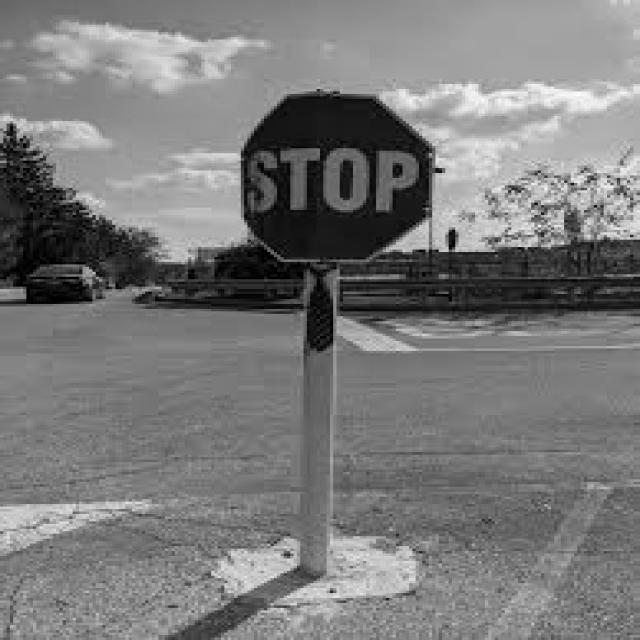stop sign: (241, 88, 433, 262)
